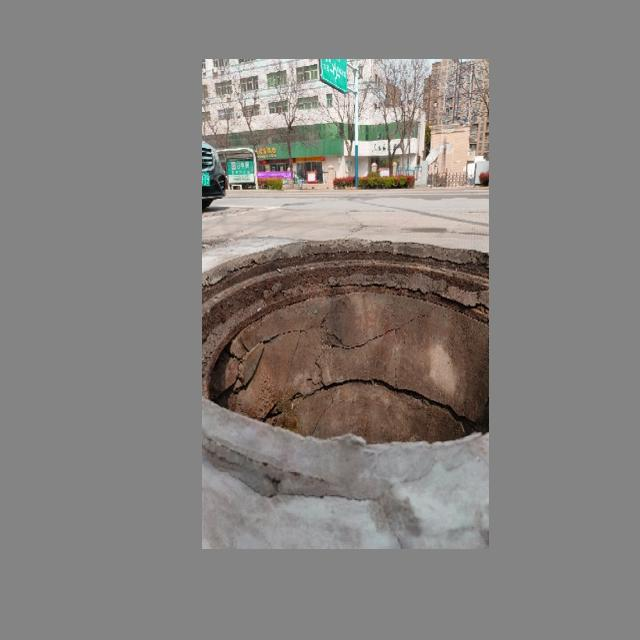lose: (202, 210, 487, 472)
